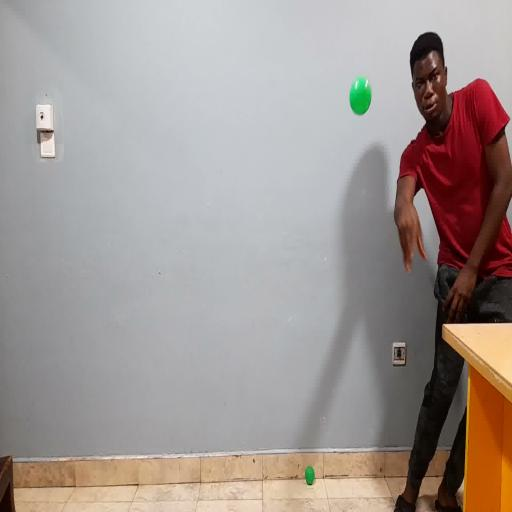plastic-ball: (350, 74, 373, 118)
